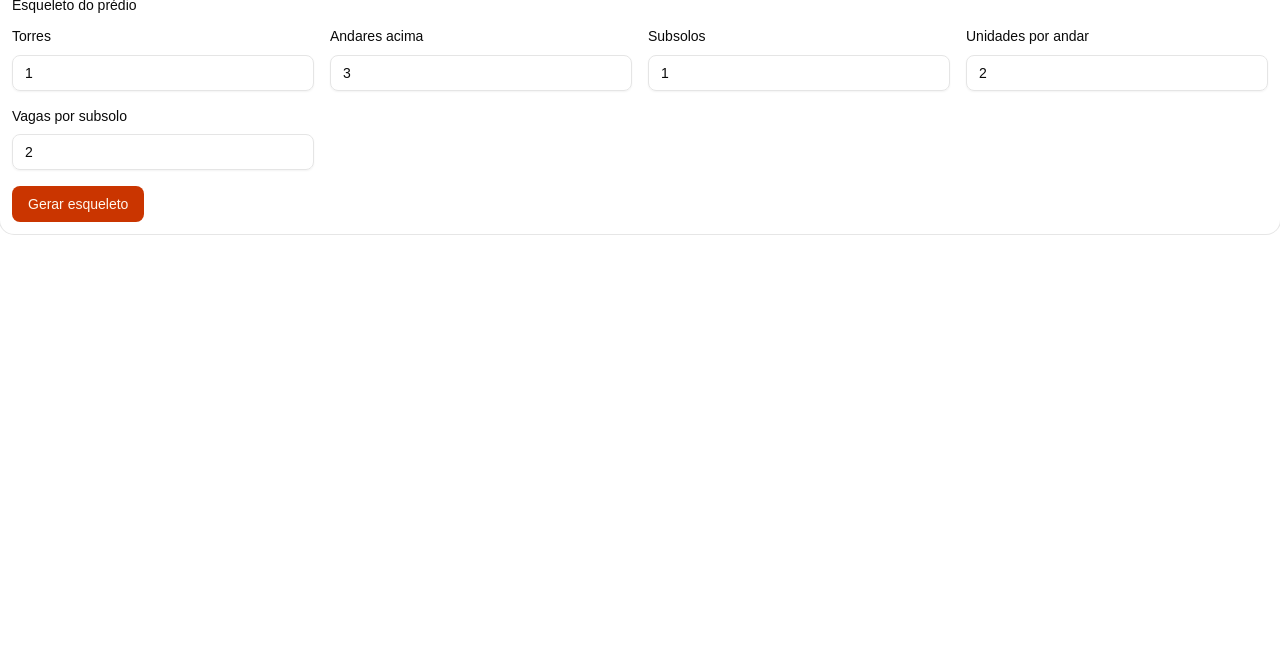
Test: StructureEditor › selects another tower and floor in the stack
Replace the text in the number field labelled "Torres" with "2": {"x": 163, "y": 72} [12, 54, 314, 90]
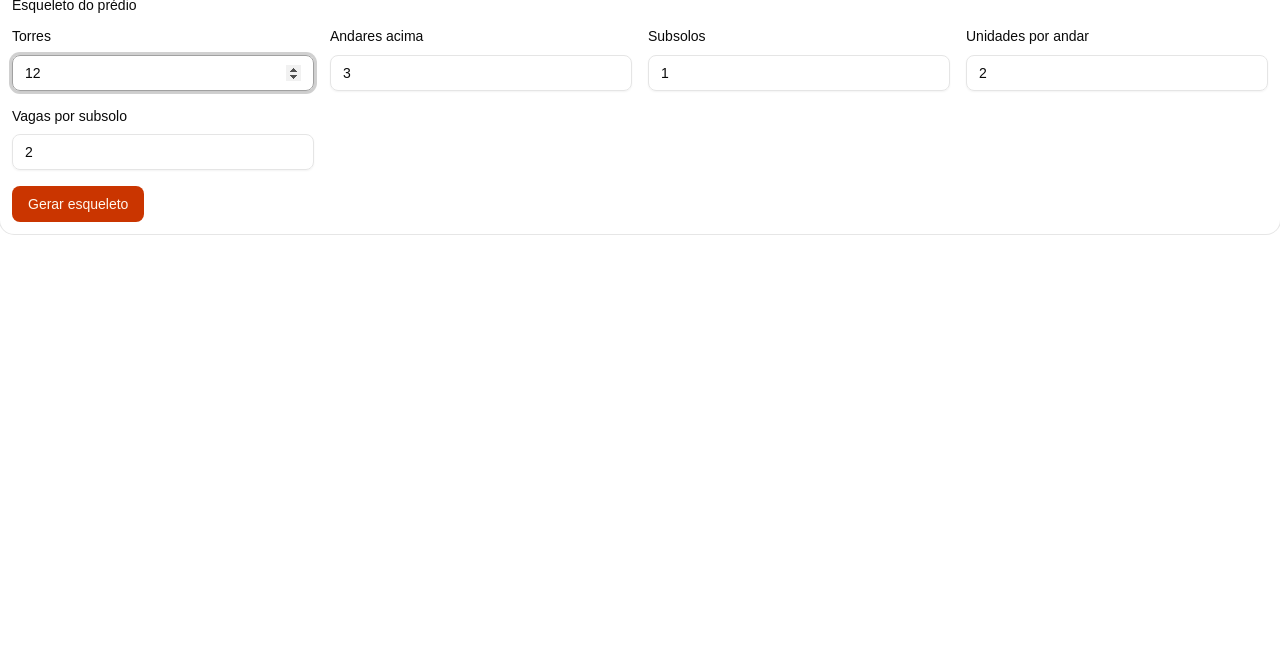
Click the button "Gerar esqueleto": {"x": 78, "y": 204} [12, 186, 144, 222]
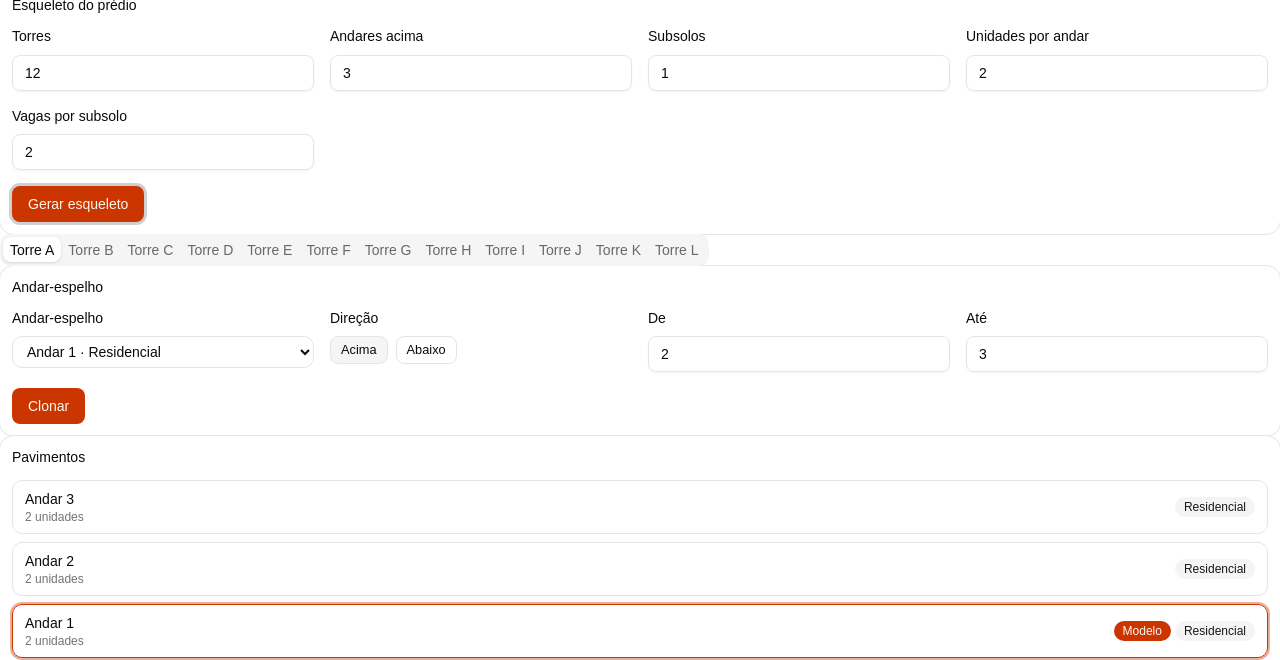
Click the tab "Torre B": {"x": 91, "y": 250} [61, 237, 120, 262]
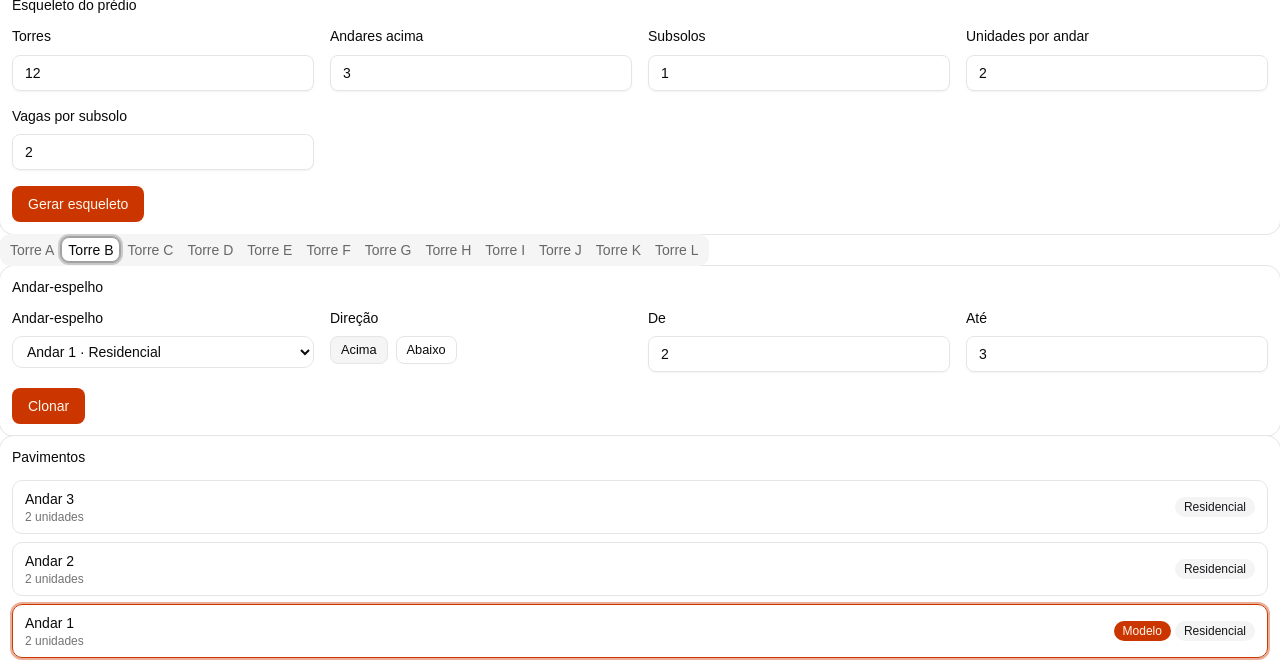
Click the button "Andar 2 2 unidades Residencial": {"x": 50, "y": 560} [12, 542, 1268, 596]
(page scrolled)
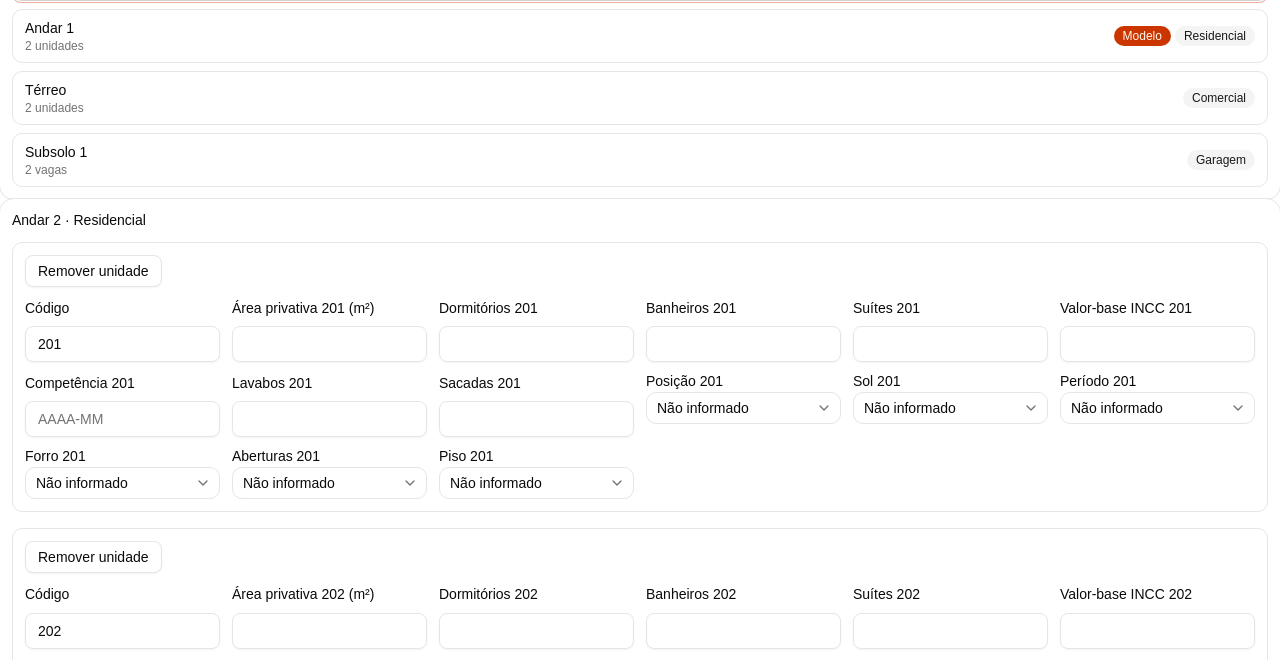
Expected: the 1st field showing "201" is shown, [25, 326, 220, 362]
